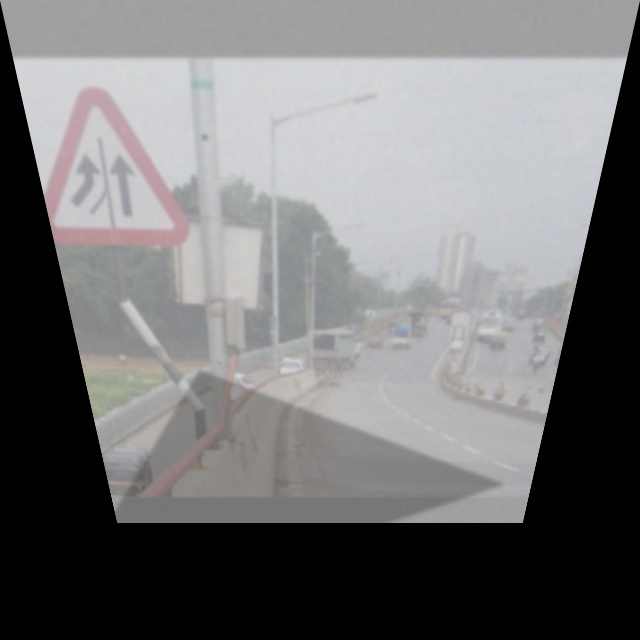Merge_Traffic_Ahead: (33, 96, 190, 247)
